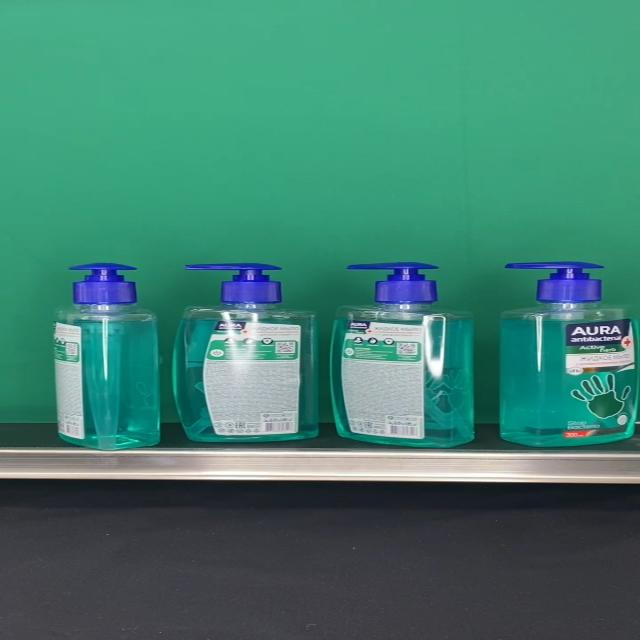Bottle: (328, 262, 474, 448), (172, 264, 319, 442), (501, 261, 639, 447), (55, 262, 161, 450)
Cap: (504, 261, 604, 303), (186, 263, 281, 305), (347, 263, 438, 305), (70, 263, 138, 304)
